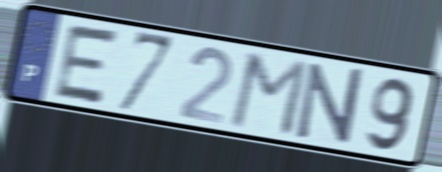2: (177, 44, 236, 128)
7: (115, 28, 179, 114)
9: (363, 74, 416, 154)
E: (49, 21, 124, 108)
M: (226, 50, 312, 140)
N: (294, 61, 365, 147)
